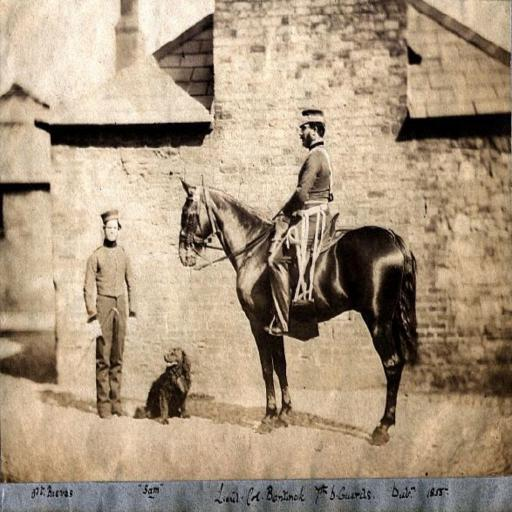horse: (174, 176, 424, 449)
